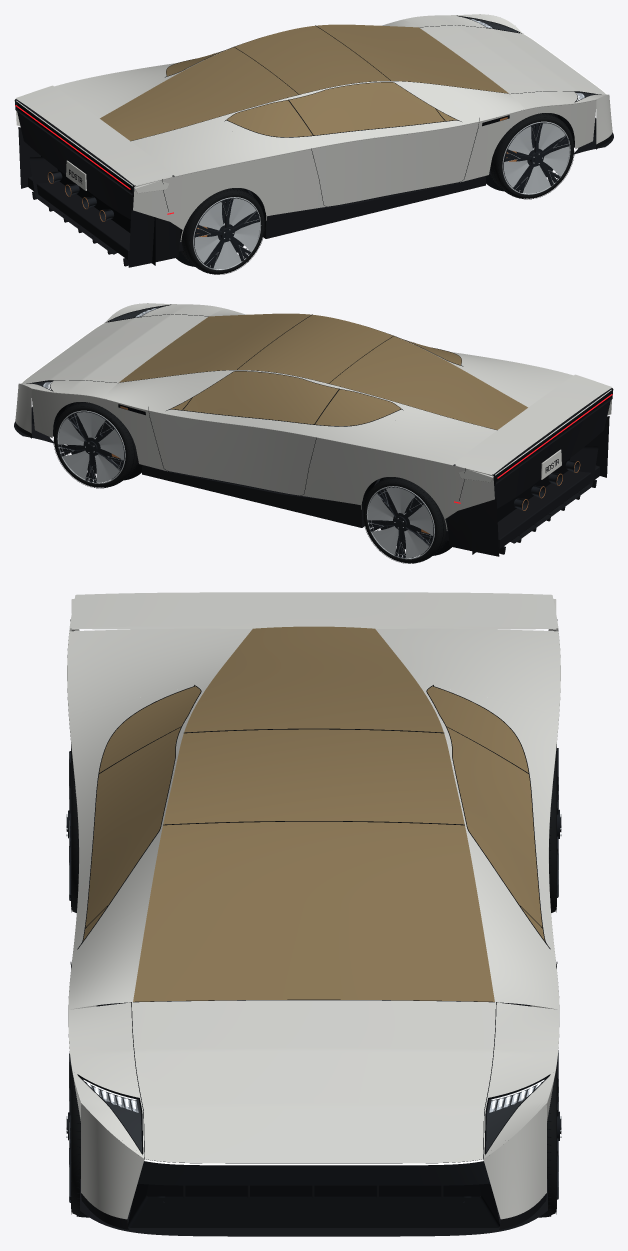
File: roadster-2026.glb
The picture shows the model from 3 angles, top to bottom: view 1: azimuth 30°, elevation 25°; view 2: azimuth 150°, elevation 25°; view 3: azimuth 270°, elevation 25°; orthographic projection. The views are drawn at different scales.
Visible parts, largest first — view 1: Batch-f2eb11, Bronze-aircraft-canopy, Port-sculpted-side, Port-side-glazing, Batch-3209de, Batch-3632c3 (×2), Rear-deck, Batch-1342c2 (×5), Batch-0b55d1 (×2), Sculpted-rear-valance, Machined-undertray-with-fan-apertures, Batch-1847f4 (+4 smaller); view 2: Batch-f2eb11, Bronze-aircraft-canopy, Starboard-sculpted-side, Starboard-side-glazing, Batch-3209de, Batch-3632c3 (×2), Rear-deck, Batch-1342c2 (×5), Batch-0b55d1 (×2), Sculpted-rear-valance, Machined-undertray-with-fan-apertures, Batch-1847f4 (+4 smaller); view 3: Batch-f2eb11, Bronze-aircraft-canopy, Rear-deck, Port-side-glazing, Starboard-side-glazing, Front-intake-return-walls, Closed-front-fascia, Batch-0b55d1 (×4), Batch-1847f4, Front-splitter, Batch-15bc38, Headlamp-lens (×2) (+4 smaller).
Part boxes in pixels (x1,y1,x2,y2): Batch-f2eb11: (15,14,612,190); Bronze-aircraft-canopy: (100,24,508,140); Port-sculpted-side: (133,100,596,229); Port-side-glazing: (227,82,456,137); Batch-3209de: (15,81,612,267); Batch-3632c3 (×2): (193,121,570,270); Rear-deck: (15,85,174,185); Batch-1342c2 (×5): (48,122,569,268); Batch-0b55d1 (×2): (181,113,574,274); Sculpted-rear-valance: (17,108,133,219); Machined-undertray-with-fan-apertures: (28,91,574,260); Batch-1847f4: (17,81,574,266); Batch-f2eb11: (15,303,612,479); Bronze-aircraft-canopy: (119,313,527,429); Starboard-sculpted-side: (31,389,494,518); Starboard-side-glazing: (171,371,400,426); Batch-3209de: (15,370,612,556); Batch-3632c3 (×2): (57,410,434,559); Rear-deck: (453,374,612,474); Batch-1342c2 (×5): (58,412,579,558); Batch-0b55d1 (×2): (53,402,446,563); Sculpted-rear-valance: (494,397,610,508); Machined-undertray-with-fan-apertures: (53,380,599,549); Batch-1847f4: (53,370,610,555); Batch-f2eb11: (67,628,560,1219); Bronze-aircraft-canopy: (133,626,494,1001); Rear-deck: (69,592,558,628); Port-side-glazing: (83,686,200,940); Starboard-side-glazing: (427,686,544,940); Front-intake-return-walls: (128,1183,499,1227); Closed-front-fascia: (137,1161,490,1185); Batch-0b55d1 (×4): (71,744,556,1216); Batch-1847f4: (146,999,481,1196); Front-splitter: (80,1179,547,1236); Batch-15bc38: (70,619,557,1158); Headlamp-lens (×2): (84,1080,543,1150).
Size of the model in its own units: 5 by 1.37 by 2.15.
